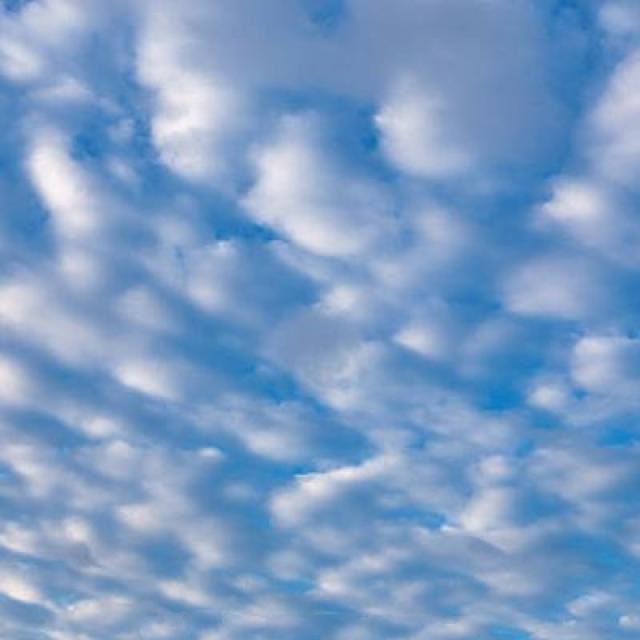Ci: (1, 24, 640, 584)
